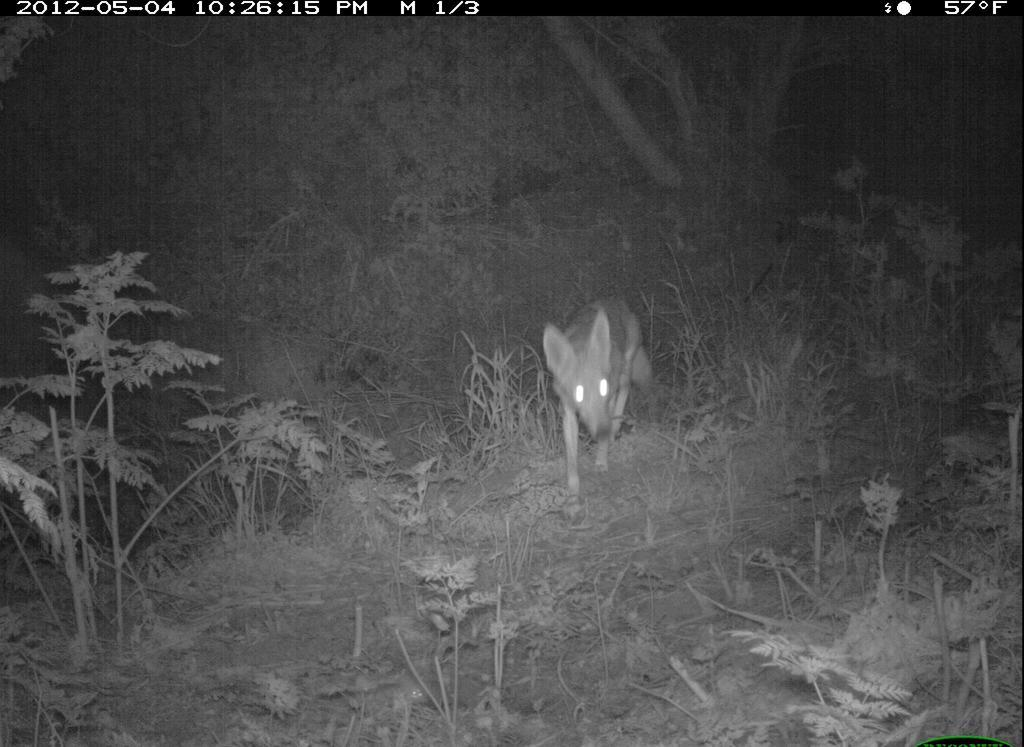coyote: (519, 286, 681, 555)
